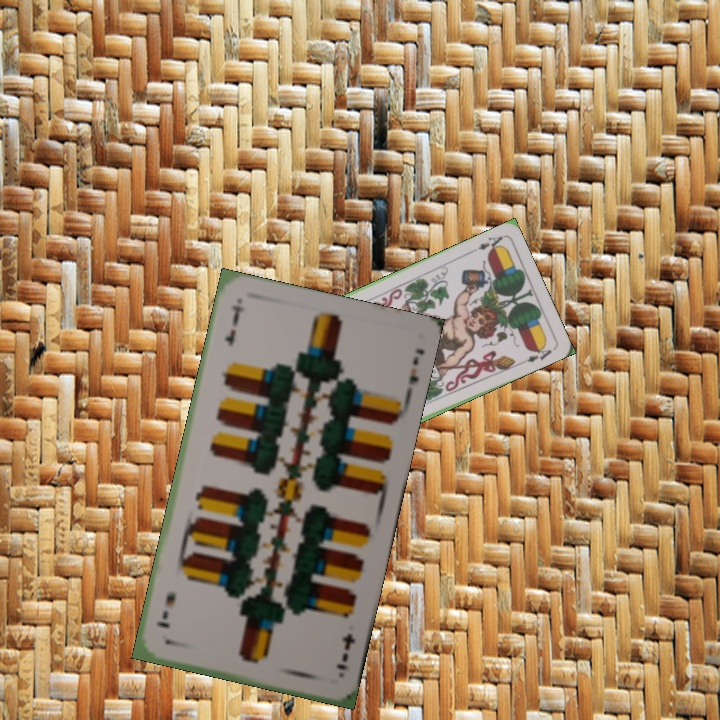E7: (220, 301, 247, 349), (331, 629, 358, 673)
EA: (468, 232, 506, 255)
